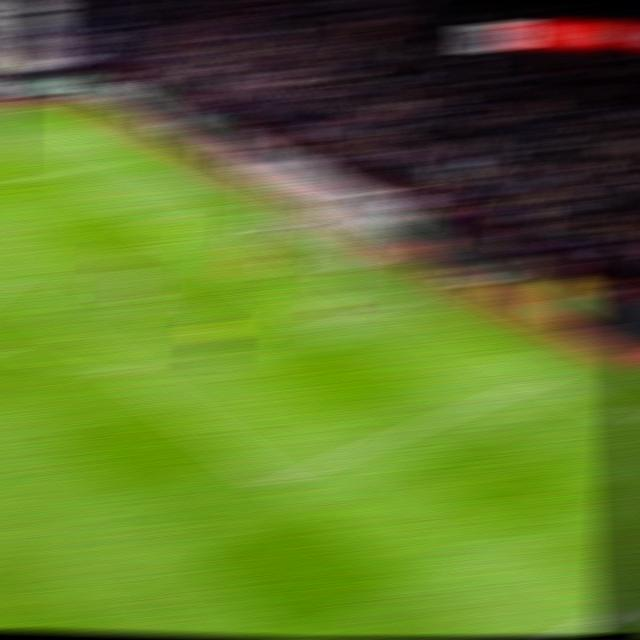bigarea_bottom_inner: (252, 465, 301, 498)
bigarea_bottom_outter: (526, 365, 566, 387)
bigarea_top_outter: (109, 149, 147, 166)
bottom_arc_area_intersection: (99, 354, 144, 382)
corner: (11, 101, 52, 115)
smallarea_bottom_inner: (303, 313, 343, 336)
smallarea_bottom_outter: (378, 290, 419, 312)
smallarea_top_inner: (127, 211, 166, 231)
smallarea_top_outter: (197, 196, 237, 215)
